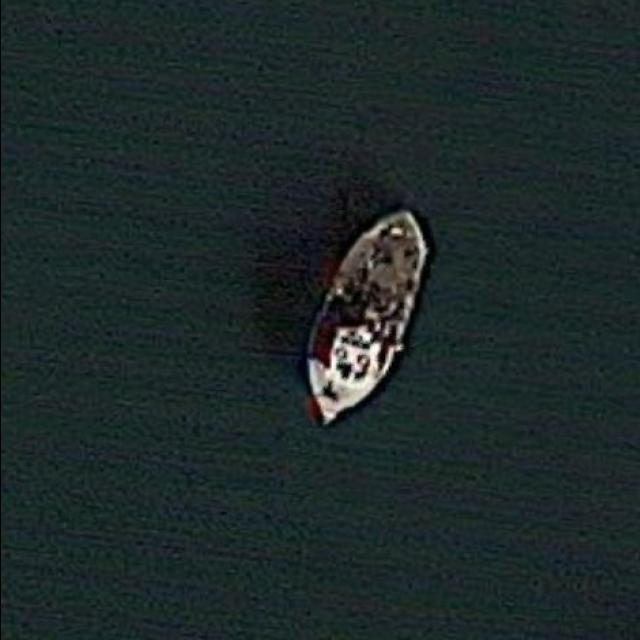ship: (304, 209, 429, 430)
